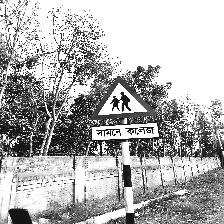College-in-front: (82, 71, 174, 158)
